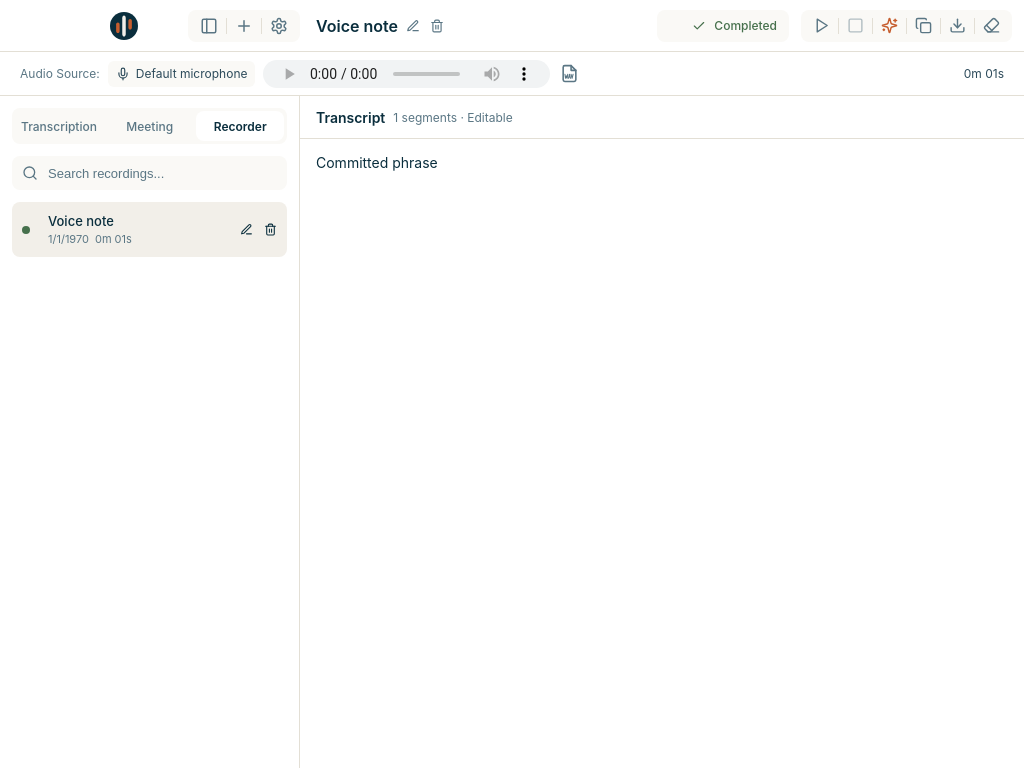
Test: Recorder mode › cancels the focused delete alertdialog with Escape
The image size is (1024, 768).
Click the button with aria-label "Open Voice note". click: (132, 230)
box: [42, 212, 223, 247]
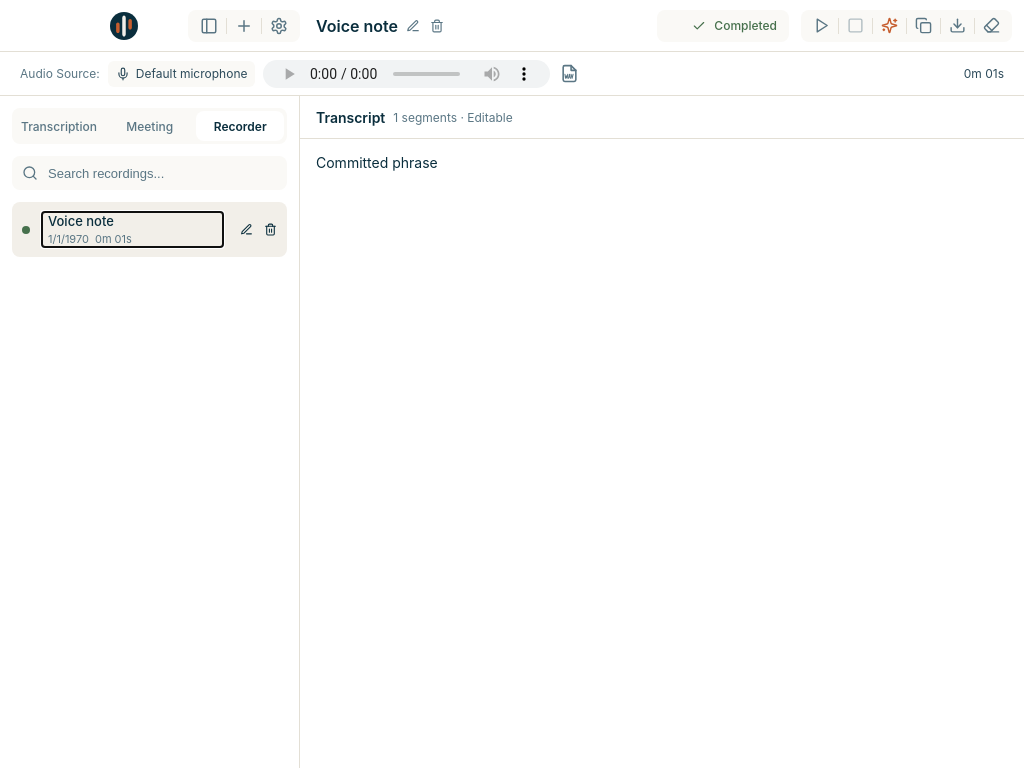
Click the button named "Delete Voice note". click: (270, 230)
box: [259, 218, 281, 240]
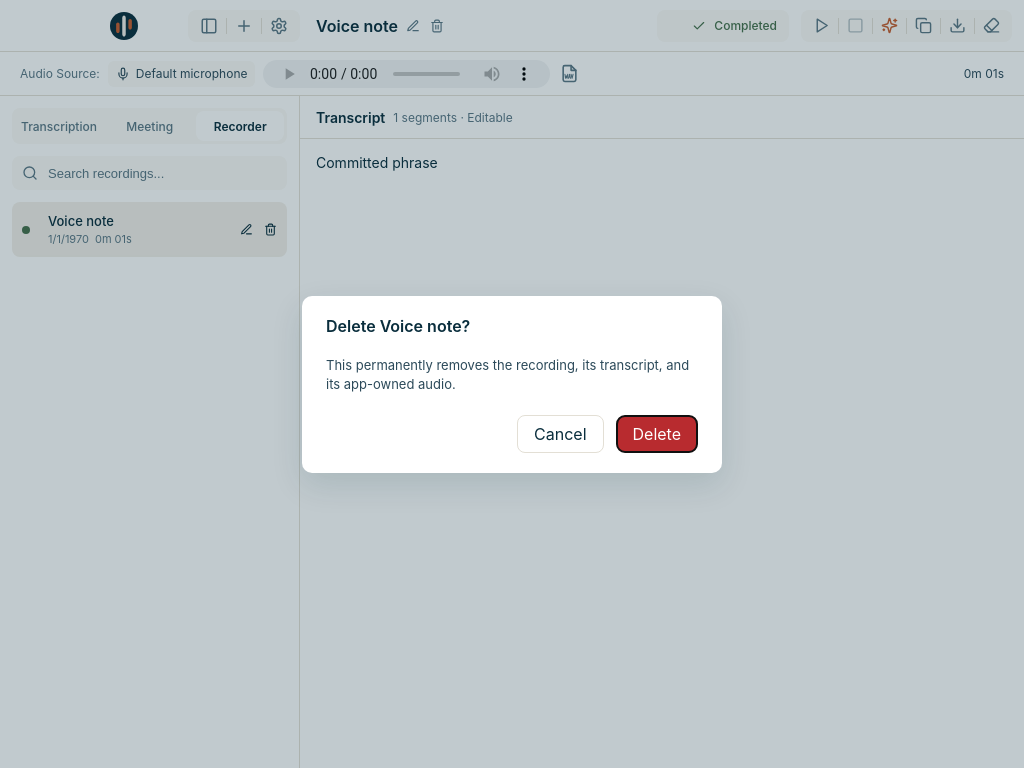
Press Escape
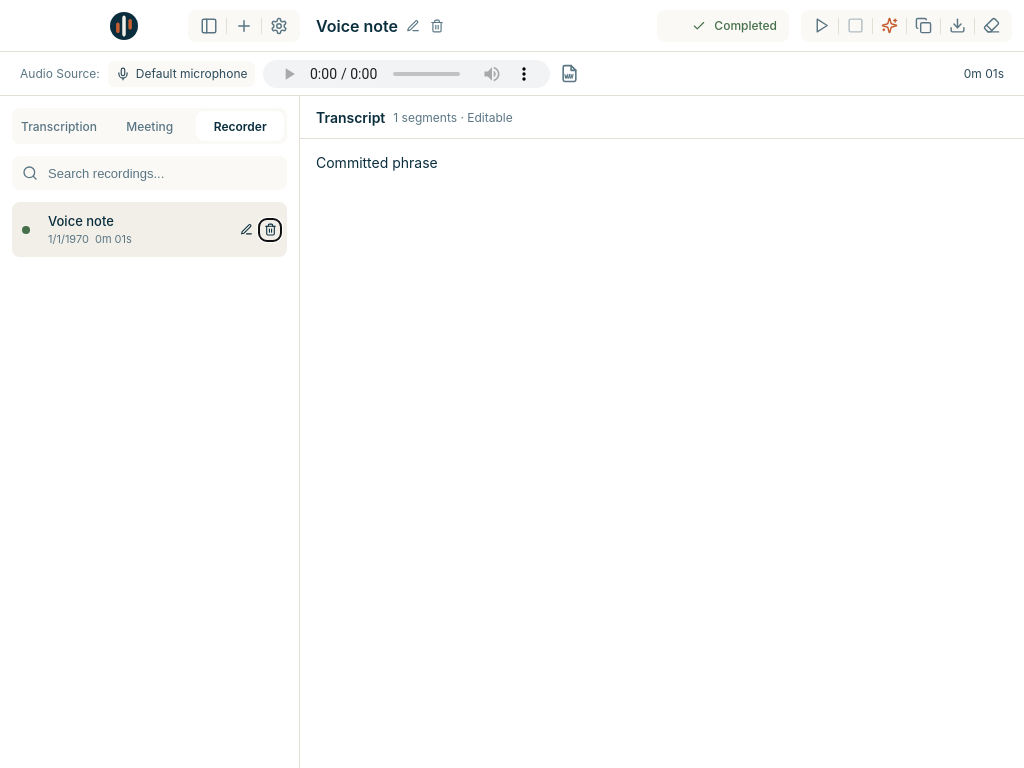
Now the dialog is gone
